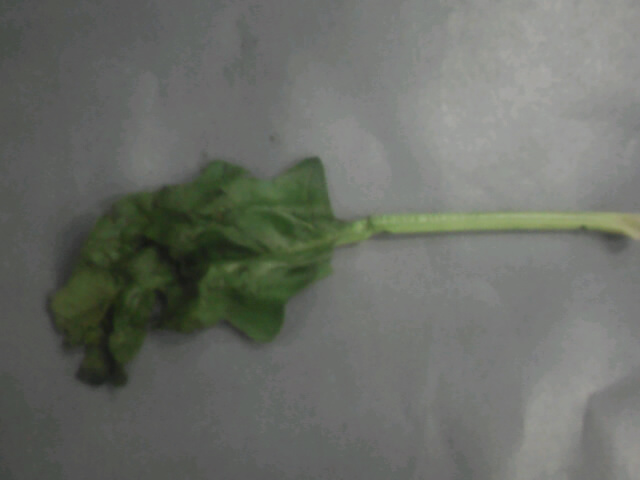yellow: (49, 132, 508, 396)
